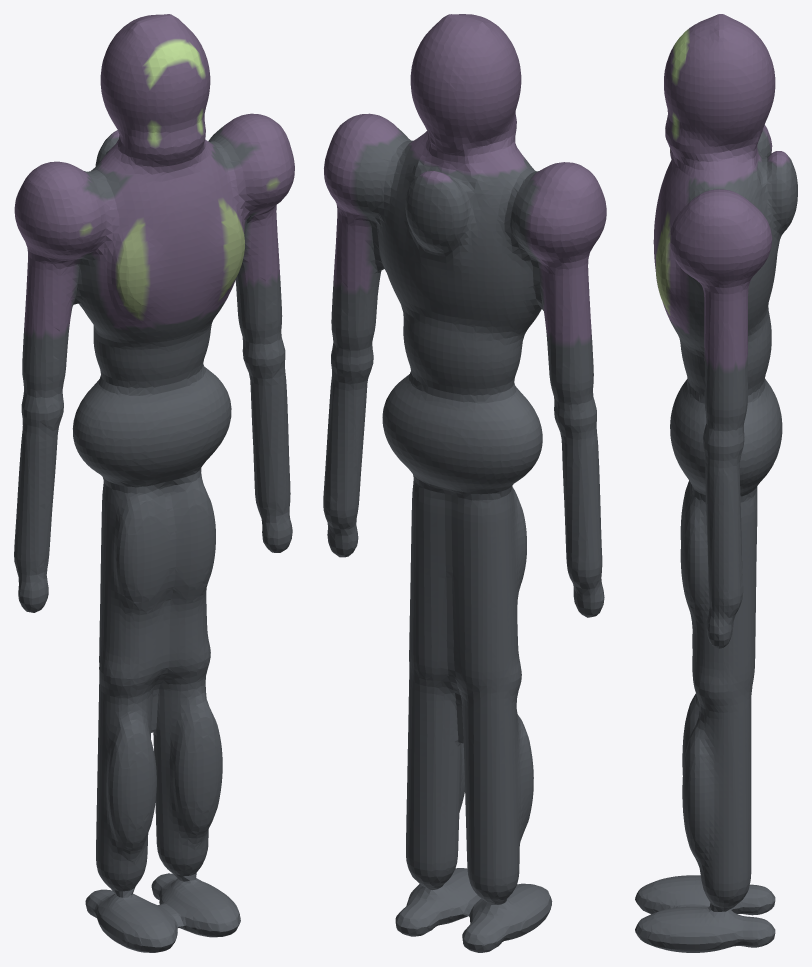
The model's file is eva-unit-continuous-prod.glb.
The picture shows the model from 3 angles, left to right: view 1: azimuth 30°, elevation 25°; view 2: azimuth 150°, elevation 25°; view 3: azimuth 270°, elevation 25°; orthographic projection.
Parts seen in each view (by area): view 1: eva_continuous_prod; view 2: eva_continuous_prod; view 3: eva_continuous_prod.
Part boxes in pixels (bbox=[...]): eva_continuous_prod: bbox=[14, 14, 294, 952]; eva_continuous_prod: bbox=[323, 14, 606, 952]; eva_continuous_prod: bbox=[635, 14, 797, 952].
Bounding box in the file's own units: 25.15 × 80 × 12.96.
